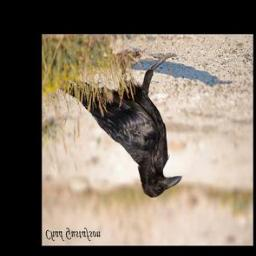Crow: (55, 52, 182, 199)
